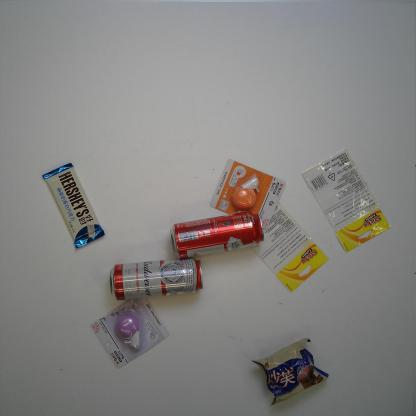Alcohol: (169, 210, 266, 261), (109, 256, 204, 301)
Chocolate: (42, 161, 107, 250)
Dessert: (251, 336, 330, 408)
Stationery: (300, 147, 392, 254), (250, 201, 330, 295), (90, 297, 170, 369), (209, 158, 287, 231)
